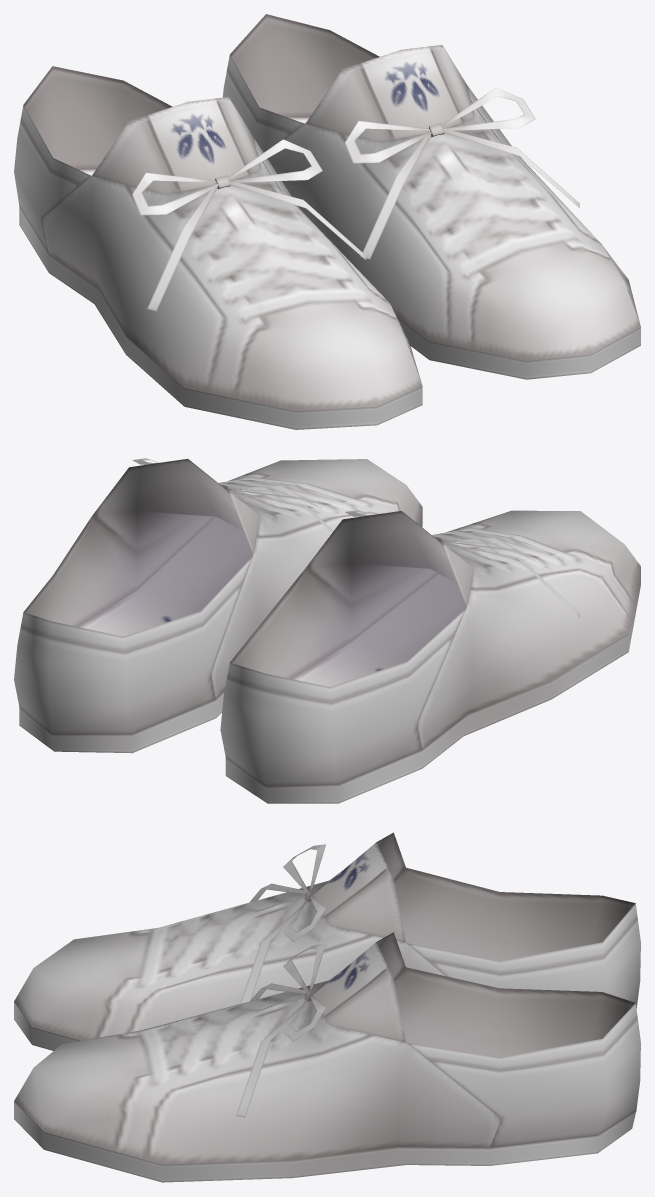
The model's file is set_sneakers_01_a.fbx.
3 renders of one model, top to bottom at view 1: azimuth 30°, elevation 25°; view 2: azimuth 150°, elevation 25°; view 3: azimuth 270°, elevation 25°, orthographic. The views are drawn at different scales.
Visible parts, largest first — view 1: sneakers_01_a_R, sneakers_01_a_L; view 2: sneakers_01_a_R, sneakers_01_a_L; view 3: sneakers_01_a_L, sneakers_01_a_R.
Boxes of the visible parts, box(x1,y1,x2,y2) form: sneakers_01_a_R: box(14, 66, 422, 429); sneakers_01_a_L: box(222, 14, 640, 379); sneakers_01_a_R: box(220, 510, 640, 803); sneakers_01_a_L: box(14, 458, 422, 753); sneakers_01_a_L: box(14, 932, 640, 1182); sneakers_01_a_R: box(14, 832, 640, 1050).
Bounding box in the file's own units: 19.19 × 8.05 × 24.51.
